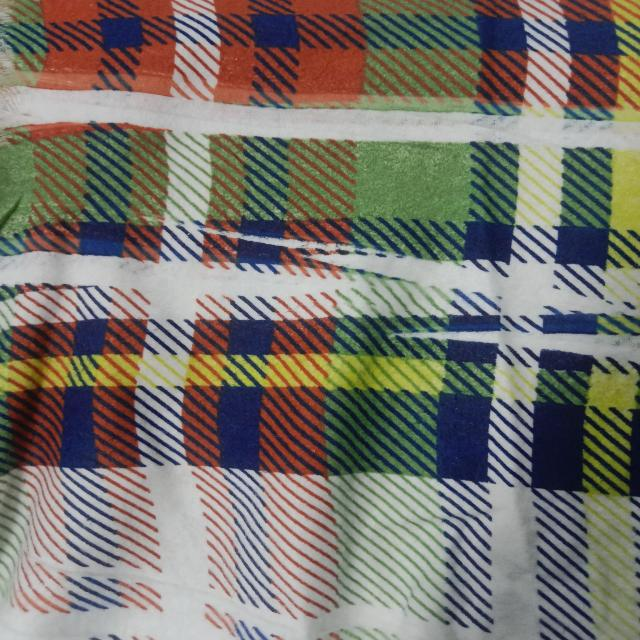selvet: (7, 79, 640, 158), (316, 238, 640, 305), (3, 608, 484, 640), (0, 251, 293, 299), (392, 320, 640, 363), (54, 563, 259, 607), (159, 214, 323, 255)
